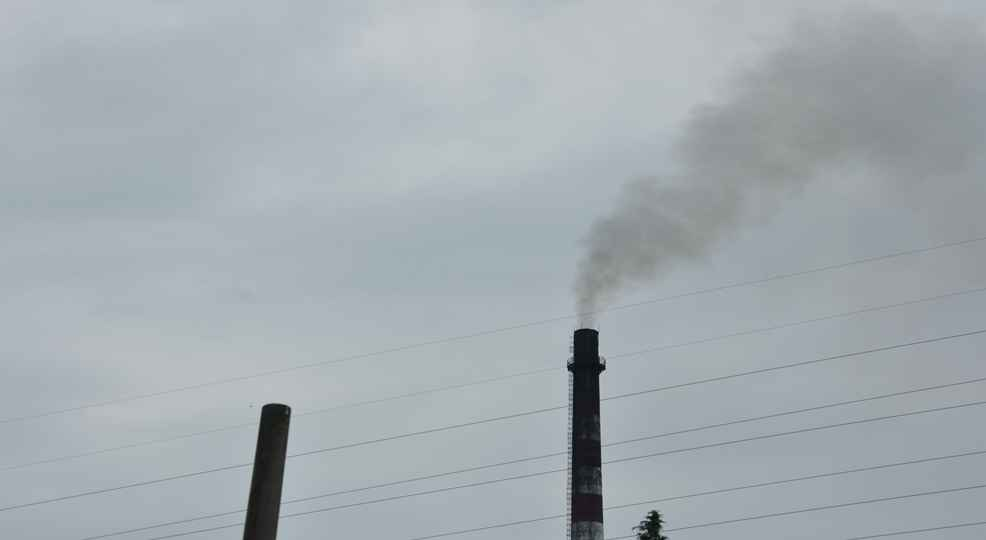dust: (559, 156, 708, 335)
